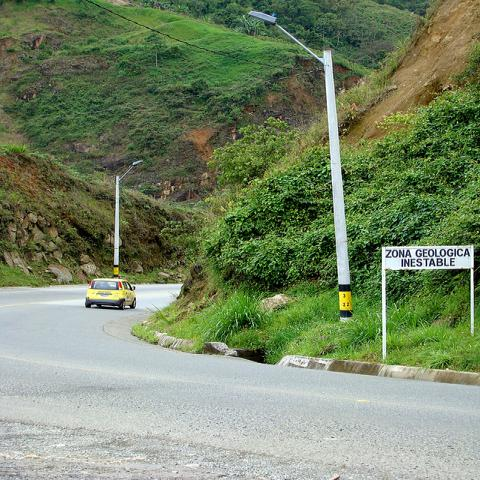car: (86, 278, 136, 310)
